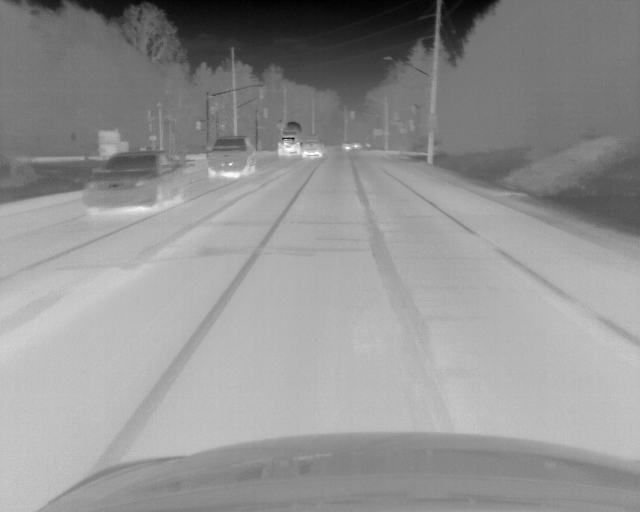car: (85, 150, 184, 205), (205, 135, 257, 177), (278, 121, 301, 157), (300, 137, 323, 160), (341, 144, 352, 152), (352, 142, 361, 151)
